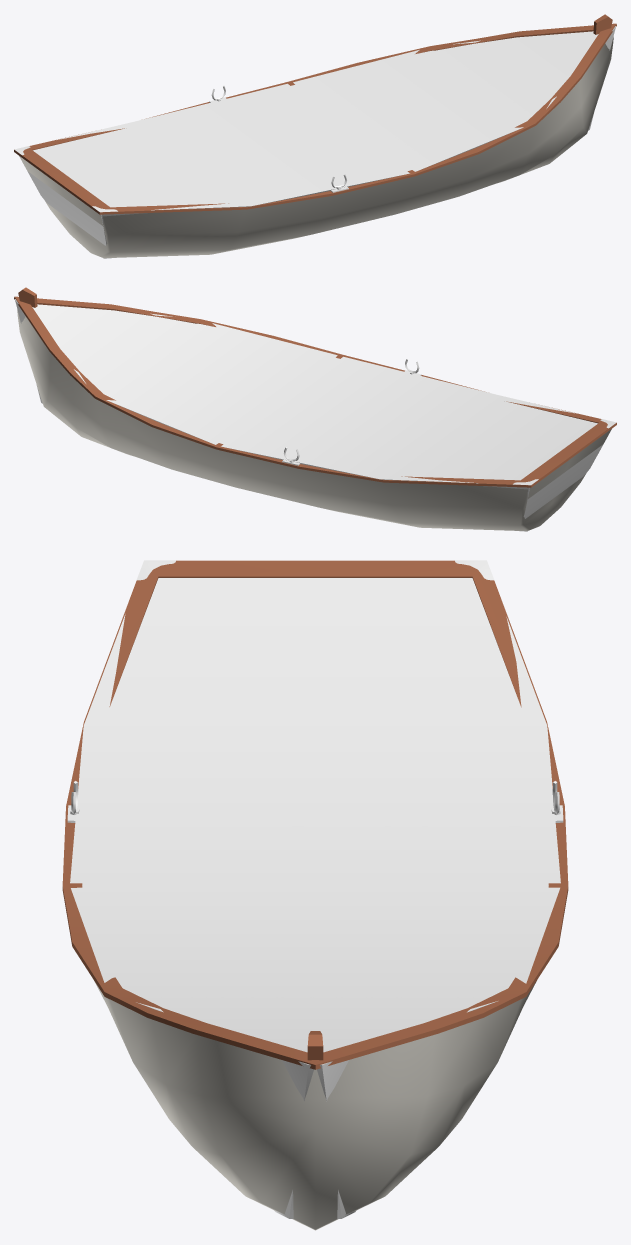
File: eca_fv_shore_boat_a.DAE
The picture shows the model from 3 angles, top to bottom: view 1: azimuth 30°, elevation 25°; view 2: azimuth 150°, elevation 25°; view 3: azimuth 270°, elevation 25°; orthographic projection. The views are drawn at different scales.
Visible parts, largest first — view 1: Colmesh-1, eca_fv_shore_boat_a120; view 2: Colmesh-1, eca_fv_shore_boat_a120; view 3: Colmesh-1, eca_fv_shore_boat_a120.
Boxes of the visible parts, x1,y1,x2,y2 form: Colmesh-1: [19, 26, 615, 258]; eca_fv_shore_boat_a120: [14, 14, 616, 258]; Colmesh-1: [15, 299, 611, 531]; eca_fv_shore_boat_a120: [14, 287, 616, 531]; Colmesh-1: [70, 578, 560, 1218]; eca_fv_shore_boat_a120: [62, 560, 568, 1230].
Size of the model in its own units: 5.83 by 2.28 by 1.31.
